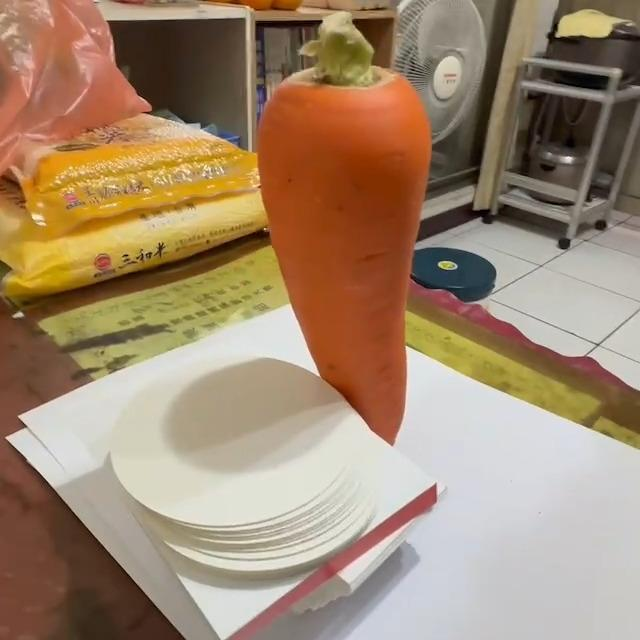carrot: (257, 26, 434, 448)
